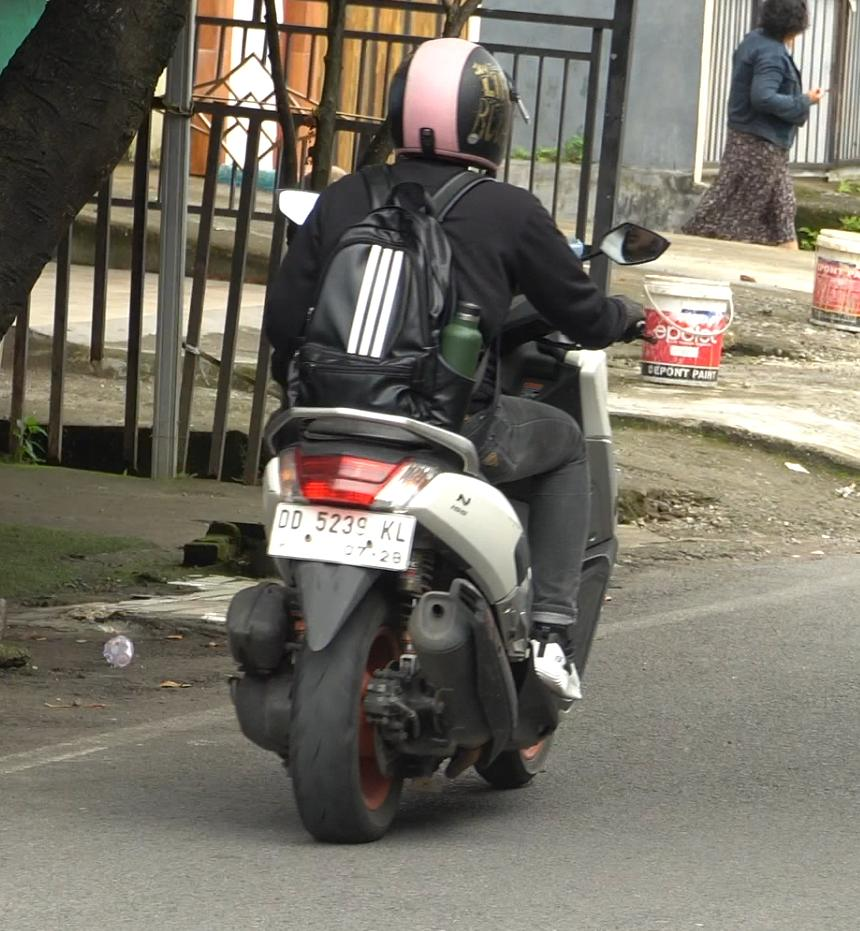number-plate: (265, 495, 425, 571)
